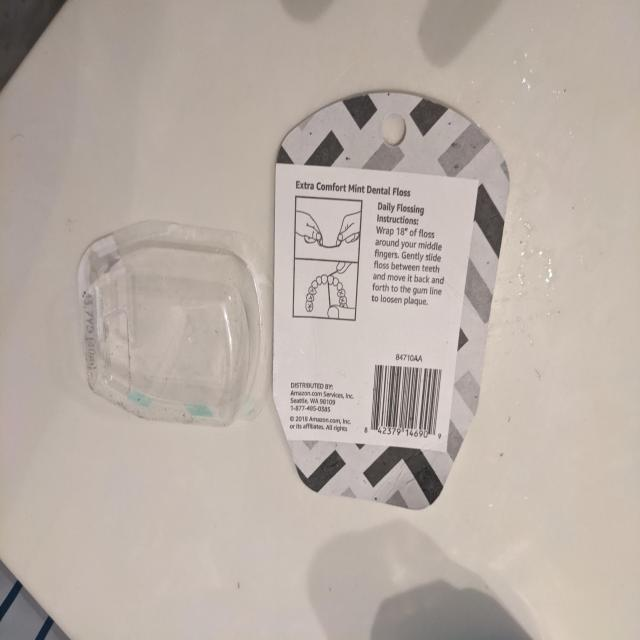litter: (272, 88, 529, 536), (70, 223, 263, 447)
